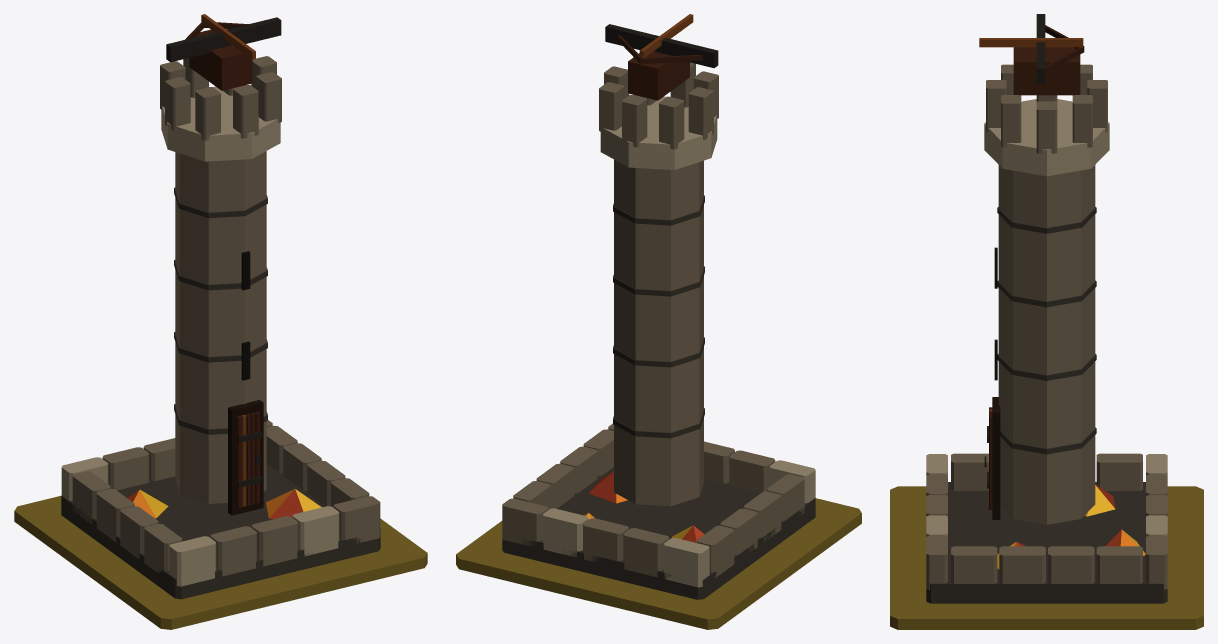
Rendered from ballista_t3.glb.
3 views of the same model, side by side, from view 1: azimuth 30°, elevation 25°; view 2: azimuth 150°, elevation 25°; view 3: azimuth 270°, elevation 25° (orthographic). The views are drawn at different scales.
Visible parts, largest first — view 1: MMR | ballista | T03 Architecture.001, MMR | ballista | Tier 03 Ground.001, MMR | ballista | T03 Autumn Dressing.001; view 2: MMR | ballista | T03 Architecture.001, MMR | ballista | Tier 03 Ground.001, MMR | ballista | T03 Autumn Dressing.001; view 3: MMR | ballista | T03 Architecture.001, MMR | ballista | Tier 03 Ground.001, MMR | ballista | T03 Autumn Dressing.001.
Part boxes in pixels (<box>): MMR | ballista | T03 Architecture.001: <box>61,14,380,599</box>; MMR | ballista | Tier 03 Ground.001: <box>14,495,427,629</box>; MMR | ballista | T03 Autumn Dressing.001: <box>127,489,321,518</box>; MMR | ballista | T03 Architecture.001: <box>502,14,815,599</box>; MMR | ballista | Tier 03 Ground.001: <box>456,498,861,629</box>; MMR | ballista | T03 Autumn Dressing.001: <box>584,471,704,542</box>; MMR | ballista | T03 Architecture.001: <box>926,14,1167,603</box>; MMR | ballista | Tier 03 Ground.001: <box>890,486,1203,629</box>; MMR | ballista | T03 Autumn Dressing.001: <box>997,484,1145,569</box>.
Size of the model in its own units: 1.3 by 2.4 by 1.3.
1 material, 1 textured.
